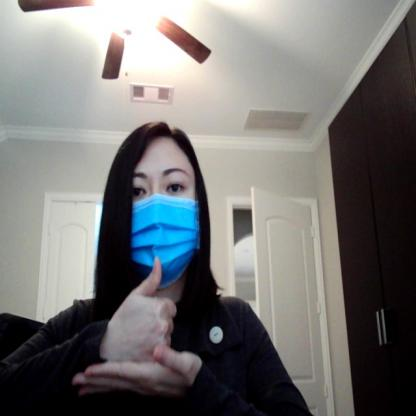help: (68, 256, 207, 404)
